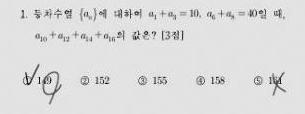choice: (20, 71, 33, 86)
not-choice: (136, 74, 148, 87), (194, 74, 206, 86), (252, 74, 263, 87), (78, 75, 90, 86)
